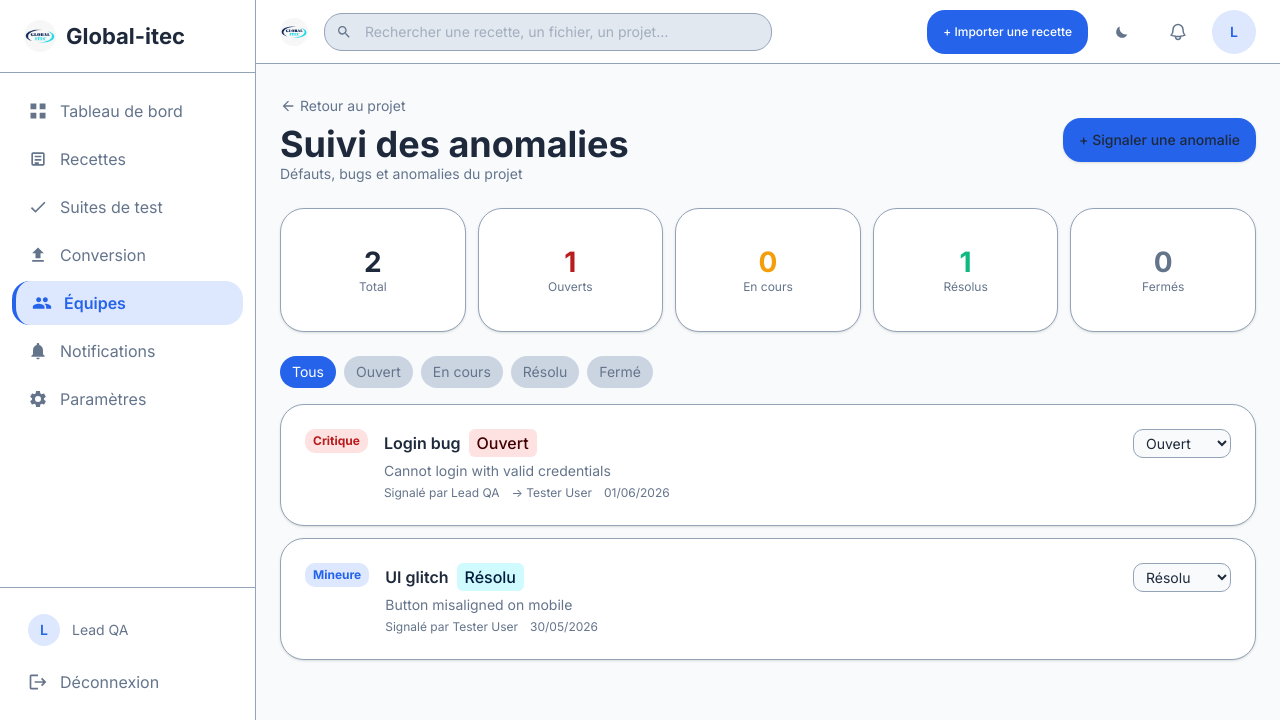
DefectTrackerPage › opens create modal on button click
Click the button "+ Signaler une anomalie" at point(1160, 140), box [1063,118,1256,162]
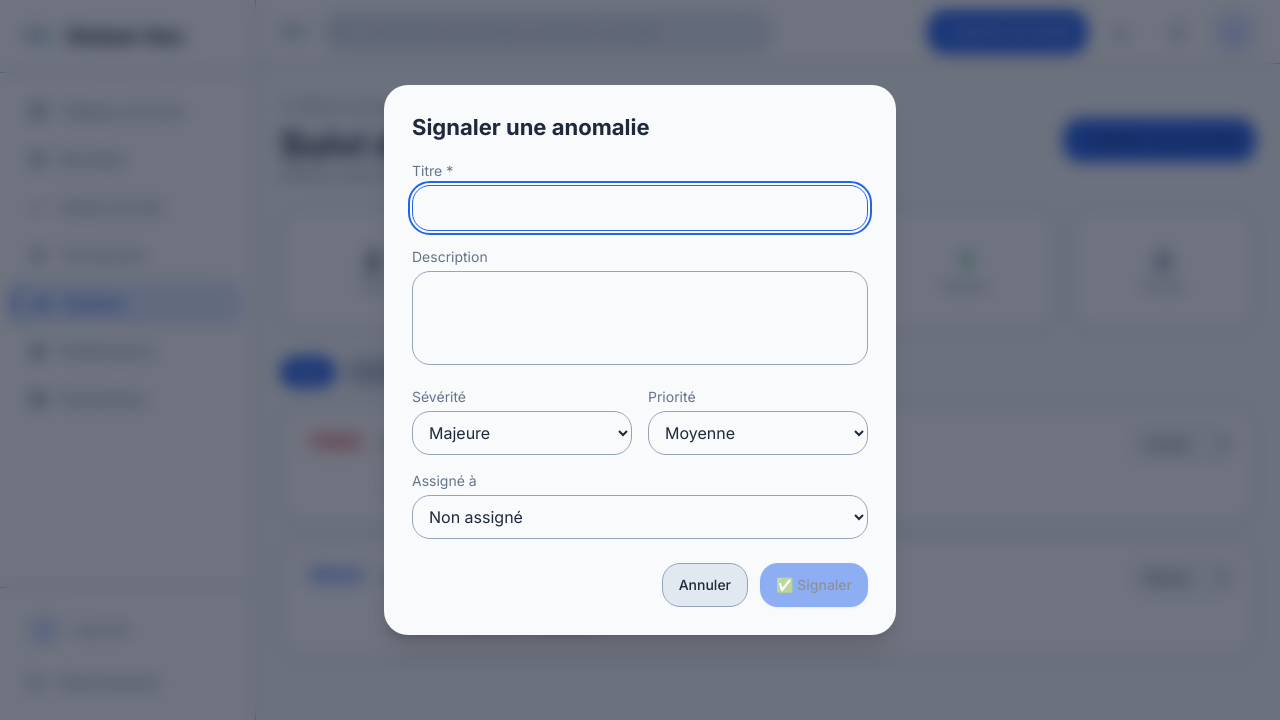
expect the heading "Signaler une anomalie" is shown: met, box [412,114,650,140]
